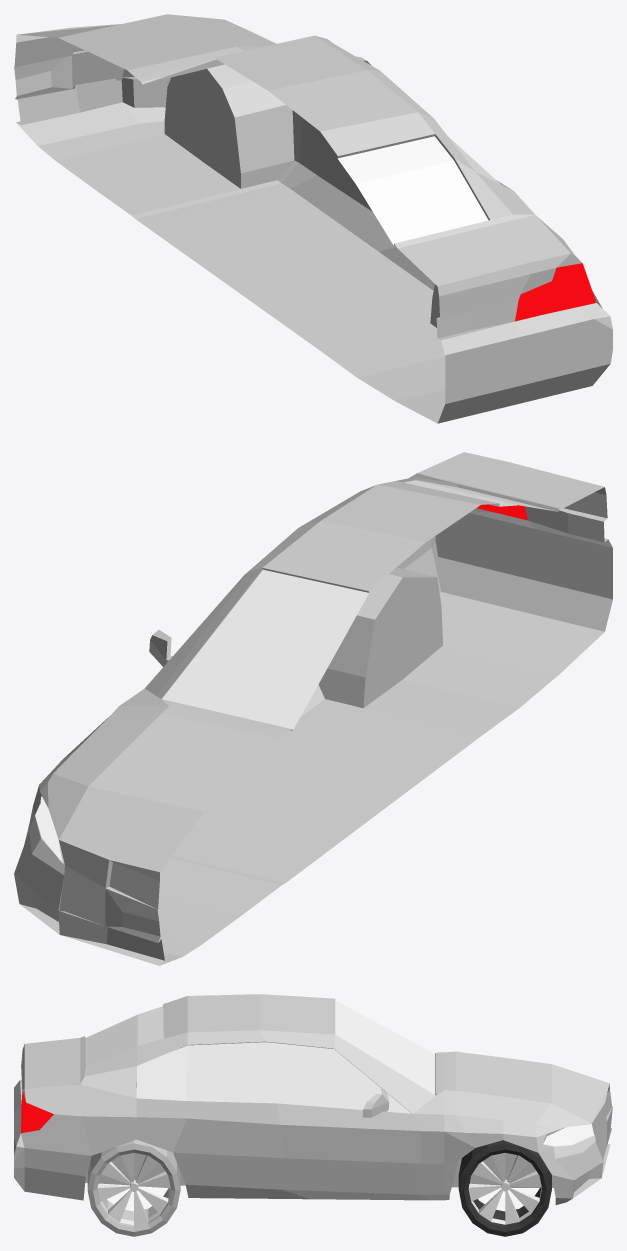
Rendered from car.glb.
The picture shows the model from 3 angles, top to bottom: view 1: azimuth 30°, elevation 25°; view 2: azimuth 150°, elevation 25°; view 3: azimuth 270°, elevation 25°; orthographic projection. The views are drawn at different scales.
Visible parts, largest first — view 1: Cube.001; view 2: Cube.001; view 3: Cube.001.
Boxes of the visible parts, x1=… form: Cube.001: x1=14, y1=14, x2=612, y2=423; Cube.001: x1=14, y1=452, x2=612, y2=965; Cube.001: x1=14, y1=994, x2=612, y2=1236.
Size of the model in its own units: 3.13 by 4.43 by 12.84.
